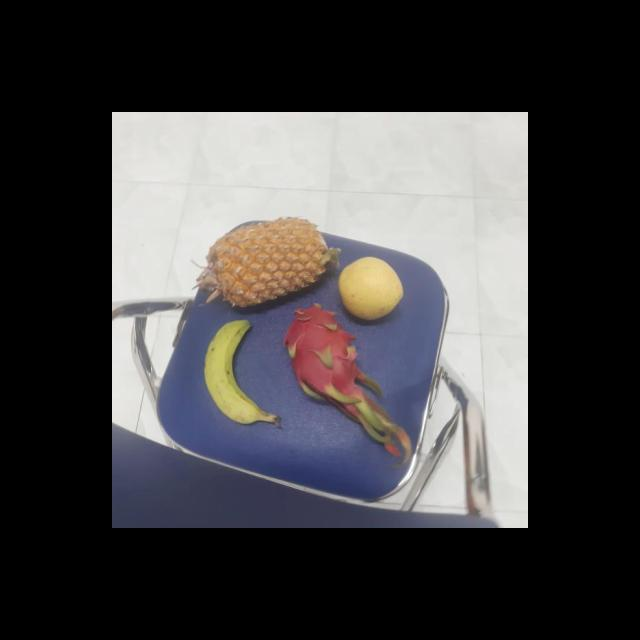banana: (200, 314, 276, 426)
pear: (336, 256, 406, 322)
pineapple: (198, 217, 333, 310)
pitaya: (285, 302, 365, 398)
